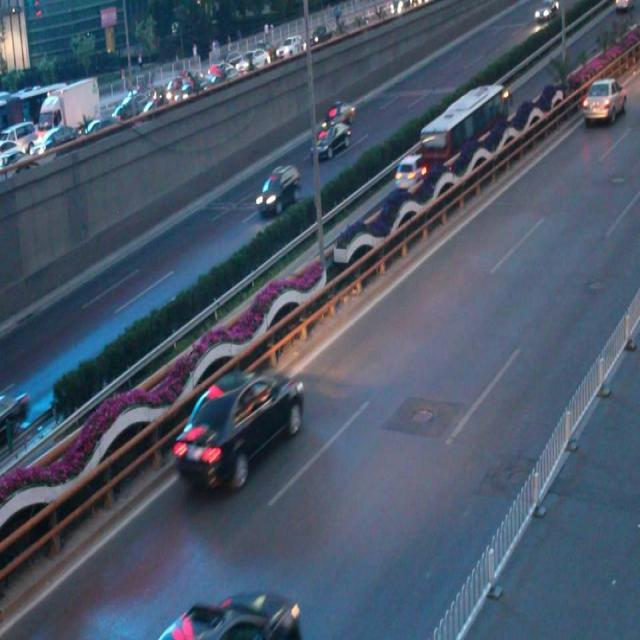car: (174, 367, 305, 486), (164, 585, 301, 640), (255, 164, 301, 213), (394, 150, 429, 198), (312, 122, 352, 159), (322, 101, 357, 130)
van: (420, 81, 509, 163)
